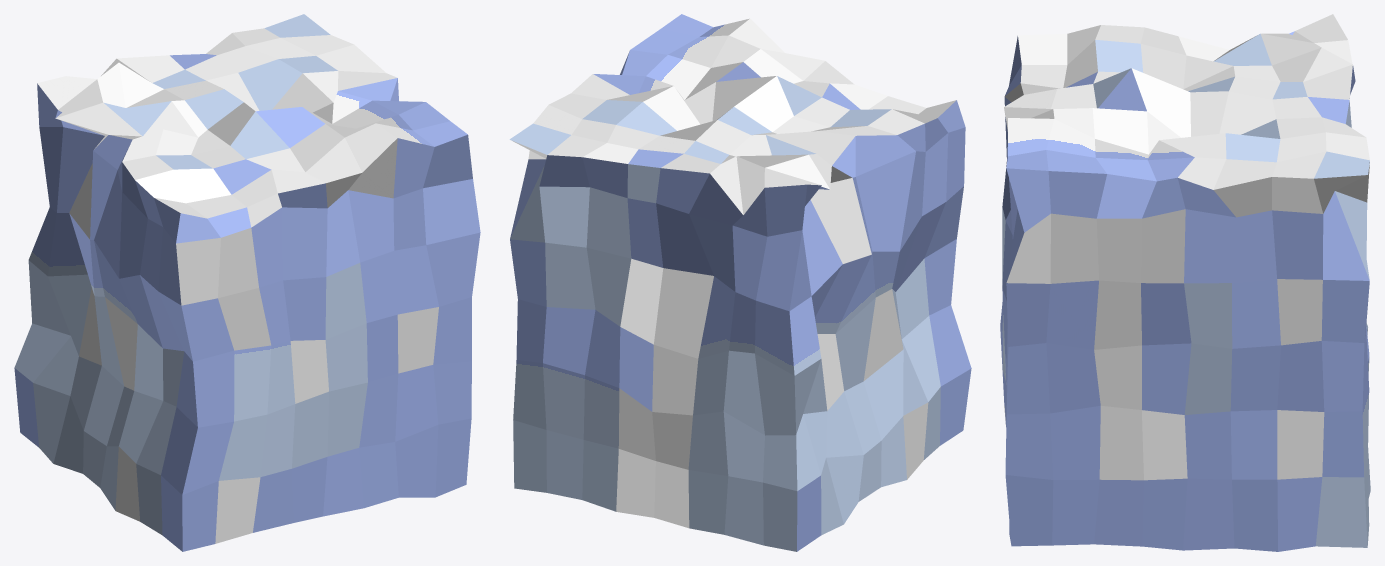
File: CLOUD.glb
The picture shows the model from 3 angles, left to right: view 1: azimuth 30°, elevation 25°; view 2: azimuth 150°, elevation 25°; view 3: azimuth 270°, elevation 25°; orthographic projection. The views are drawn at different scales.
Parts seen in each view (by area): view 1: Cloud; view 2: Cloud; view 3: Cloud.
Boxes of the visible parts, left/top/right/bottom form: Cloud: left=14, top=14, right=480, bottom=551; Cloud: left=509, top=14, right=971, bottom=551; Cloud: left=1000, top=14, right=1370, bottom=551.
Bounding box in the file's own units: 4.24 × 4.96 × 4.15.
Materials: 1 (1 with a texture image).
